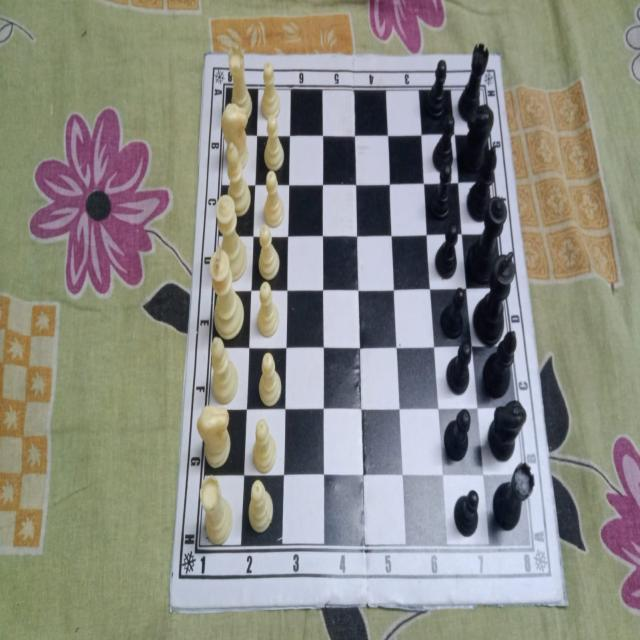corners: (163, 599, 179, 619), (555, 592, 570, 612), (494, 44, 506, 65), (201, 48, 213, 68)
